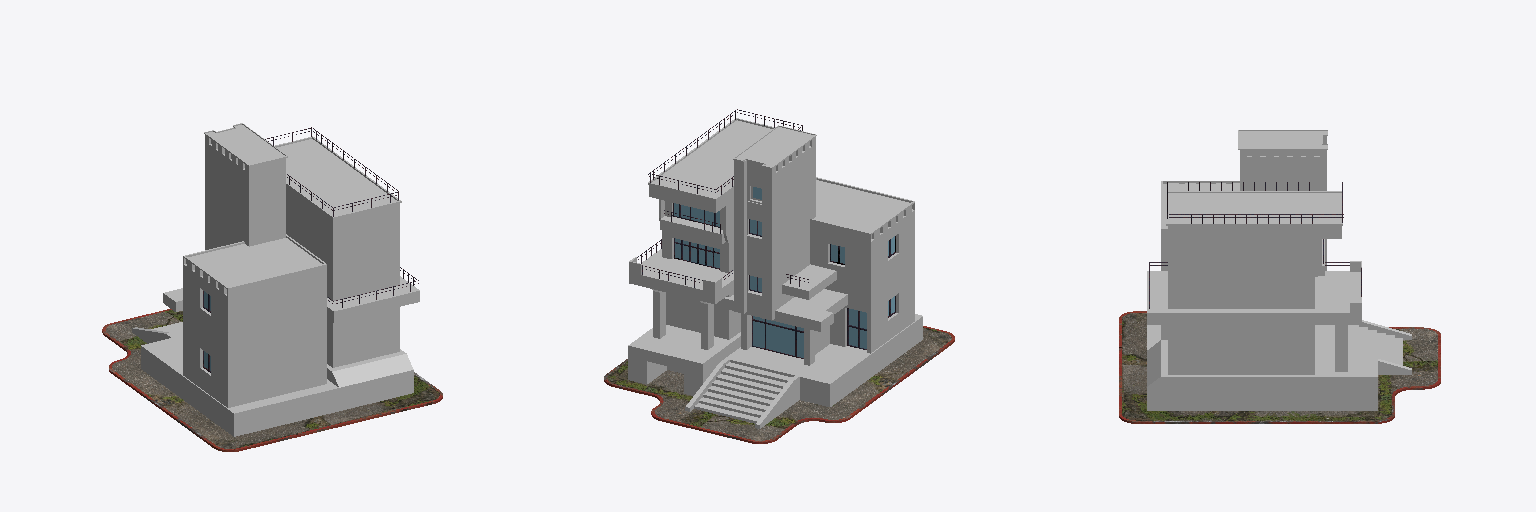
3 renders of one model, left to right at view 1: azimuth 30°, elevation 25°; view 2: azimuth 150°, elevation 25°; view 3: azimuth 270°, elevation 25°, orthographic.
Parts seen in each view (by area): view 1: Object_7, Object_10, Object_9; view 2: Object_7, Object_10, Object_5, Object_9, Object_4; view 3: Object_7, Object_10, Object_9.
Part boxes in pixels (left/top/right/bottom): Object_7: left=132, top=123, right=419, bottom=436; Object_10: left=106, top=310, right=439, bottom=448; Object_9: left=102, top=309, right=442, bottom=451; Object_7: left=628, top=118, right=922, bottom=428; Object_10: left=607, top=327, right=951, bottom=440; Object_5: left=674, top=187, right=894, bottom=357; Object_9: left=604, top=326, right=954, bottom=443; Object_4: left=673, top=203, right=895, bottom=358; Object_7: left=1147, top=130, right=1411, bottom=410; Object_10: left=1122, top=313, right=1437, bottom=420; Object_9: left=1119, top=311, right=1440, bottom=423.
Bounding box in the file's own units: 6.09 × 5.77 × 7.5.
Materials: 6 (4 with a texture image).